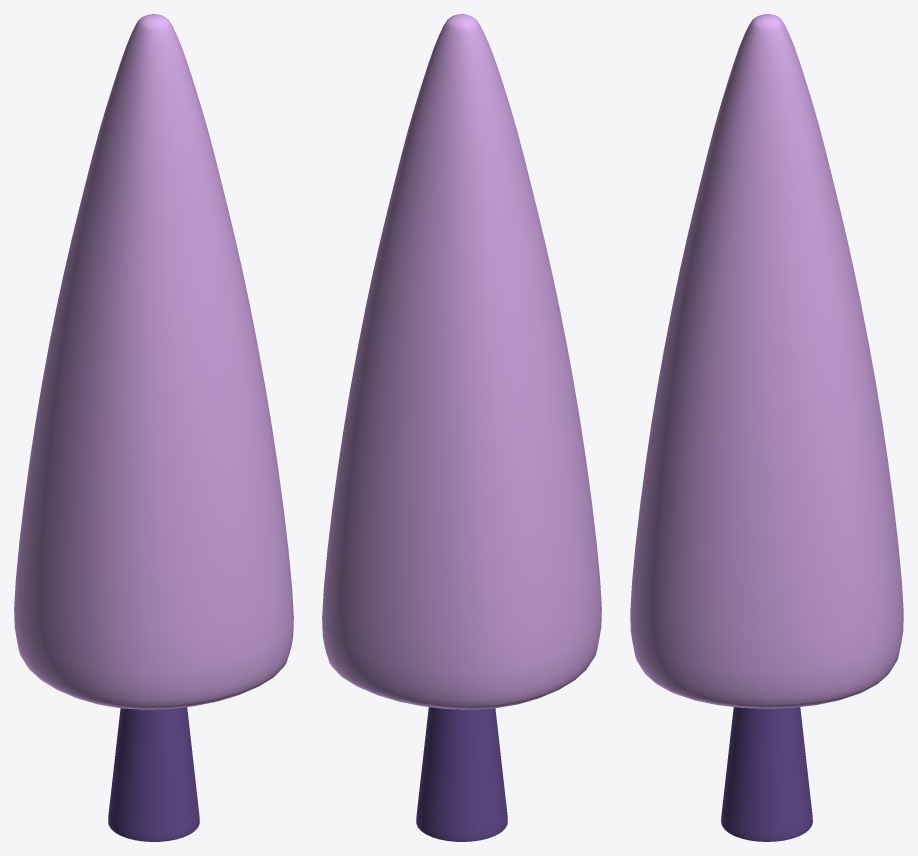
Rendered from SM_20003ArvoreTriangulo.fbx.
3 renders of one model, left to right at view 1: azimuth 30°, elevation 25°; view 2: azimuth 150°, elevation 25°; view 3: azimuth 270°, elevation 25°, orthographic.
Visible parts, largest first — view 1: SM_20003ArvoreTriangulo_geo_1, SM_20003ArvoreTriangulo_geo_2; view 2: SM_20003ArvoreTriangulo_geo_1, SM_20003ArvoreTriangulo_geo_2; view 3: SM_20003ArvoreTriangulo_geo_1, SM_20003ArvoreTriangulo_geo_2.
Boxes of the visible parts, x1=… form: SM_20003ArvoreTriangulo_geo_1: x1=14, y1=14, x2=293, y2=709; SM_20003ArvoreTriangulo_geo_2: x1=108, y1=707, x2=199, y2=841; SM_20003ArvoreTriangulo_geo_1: x1=322, y1=14, x2=601, y2=709; SM_20003ArvoreTriangulo_geo_2: x1=416, y1=707, x2=507, y2=841; SM_20003ArvoreTriangulo_geo_1: x1=630, y1=14, x2=903, y2=708; SM_20003ArvoreTriangulo_geo_2: x1=721, y1=707, x2=812, y2=841.
Size of the model in its own units: 133 by 433 by 133.
